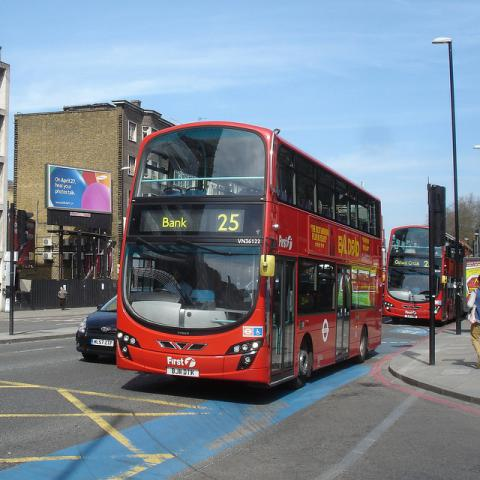bus: (116, 122, 386, 387), (384, 226, 461, 324)
car: (76, 294, 117, 360)
